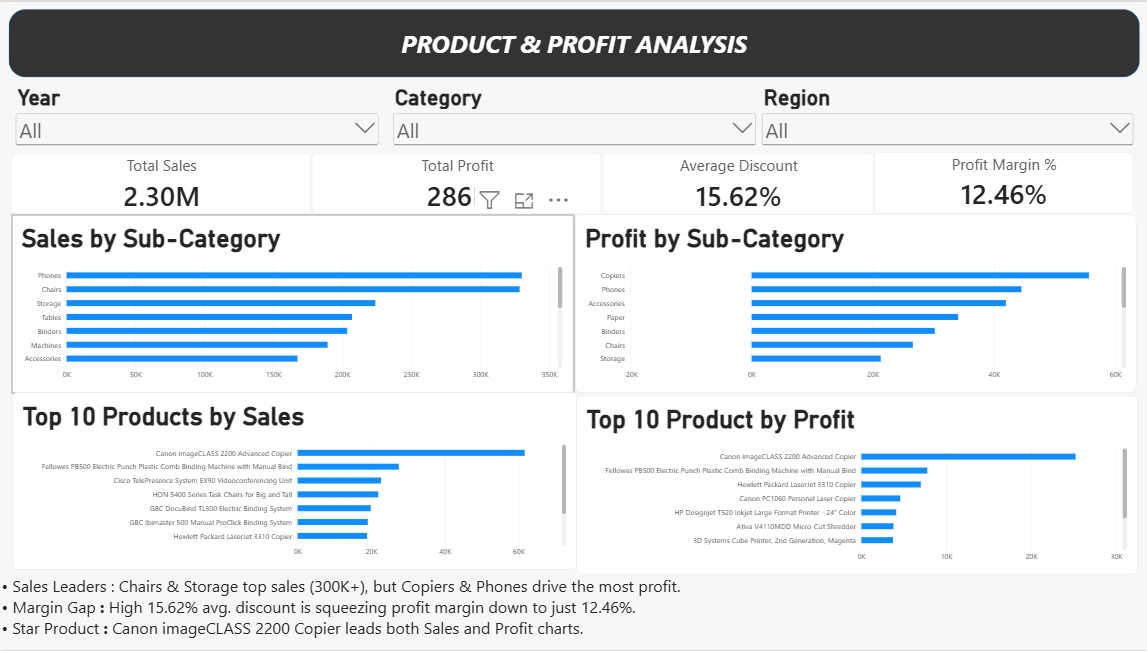

This screenshot's page, from the dashboard's own definition file:
{"tool":"powerbi","page":{"name":"Product Analysis","canvas":[1920,1080],"ordinal":1},"visuals":[{"type":"shape","box":[3.6,0,1909.2,137.5],"z":0},{"type":"slicer","fields":{"Values":["Superstore_Sales_Cleaned.Order Date.Variation.Date Hierarchy.Year"]},"box":[23.8,138.5,614.6,114.7],"z":1000},{"type":"slicer","fields":{"Values":["Superstore_Sales_Cleaned.Category"]},"box":[652.7,138.2,614.6,114.7],"z":2000},{"type":"slicer","fields":{"Values":["Superstore_Sales_Cleaned.Region"]},"box":[1267.3,138.2,629.1,114.5],"z":3000},{"type":"cardVisual","fields":{"Data":["Superstore_Sales_Cleaned.Total Sales"]},"box":[20.8,252.1,499.9,101.7],"z":4000},{"type":"cardVisual","fields":{"Data":["Superstore_Sales_Cleaned.Total Profit"]},"box":[523.6,252.7,481.8,101.8],"z":5000},{"type":"cardVisual","fields":{"Data":["Superstore_Sales_Cleaned.Average Discount"]},"box":[1005.5,252.7,452.7,101.8],"z":6000},{"type":"cardVisual","fields":{"Data":["Superstore_Sales_Cleaned.Profit Margin %"]},"box":[1458.3,250,432.7,101.8],"z":7000},{"type":"clusteredBarChart","title":" Sales by Sub-Category","fields":{"Category":["Superstore_Sales_Cleaned.Sub-Category"],"Y":["Sum(Superstore_Sales_Cleaned.Sales)"]},"box":[21.8,354.5,935.6,296.8],"z":8000},{"type":"clusteredBarChart","title":"Profit by Sub-Category","fields":{"Category":["Superstore_Sales_Cleaned.Sub-Category"],"Y":["Sum(Superstore_Sales_Cleaned.Profit)"]},"box":[960,354.5,935.6,296.8],"z":9000},{"type":"barChart","title":"Top 10 Products by Sales","fields":{"Category":["Superstore_Sales_Cleaned.Product Name"],"Y":["Sum(Superstore_Sales_Cleaned.Sales)"]},"box":[22.9,650,940,296.4],"z":10000},{"type":"clusteredBarChart","title":"Top 10 Product by Profit","fields":{"Category":["Superstore_Sales_Cleaned.Product Name"],"Y":["Sum(Superstore_Sales_Cleaned.Profit)"]},"box":[962.3,655.8,935.1,297.4],"z":11000},{"type":"textbox","box":[4.2,954.2,1893.8,127.1],"z":12000}]}

Visuals, with their boxes in screenshot pixels (x1, y1, x2, y2), scaled from the page's 1920x1080 canvas onto the 1147x651 screenshot:
shape: (2,0,1143,83)
slicer - Superstore_Sales_Cleaned.Order Date.Variation.Date Hierarchy.Year: (14,83,381,153)
slicer - Superstore_Sales_Cleaned.Category: (390,83,757,152)
slicer - Superstore_Sales_Cleaned.Region: (757,83,1133,152)
cardVisual - Superstore_Sales_Cleaned.Total Sales: (12,152,311,213)
cardVisual - Superstore_Sales_Cleaned.Total Profit: (313,152,601,214)
cardVisual - Superstore_Sales_Cleaned.Average Discount: (601,152,871,214)
cardVisual - Superstore_Sales_Cleaned.Profit Margin %: (871,151,1130,212)
" Sales by Sub-Category" clusteredBarChart: (13,214,572,393)
"Profit by Sub-Category" clusteredBarChart: (574,214,1132,393)
"Top 10 Products by Sales" barChart: (14,392,575,570)
"Top 10 Product by Profit" clusteredBarChart: (575,395,1133,575)
textbox: (3,575,1134,650)
